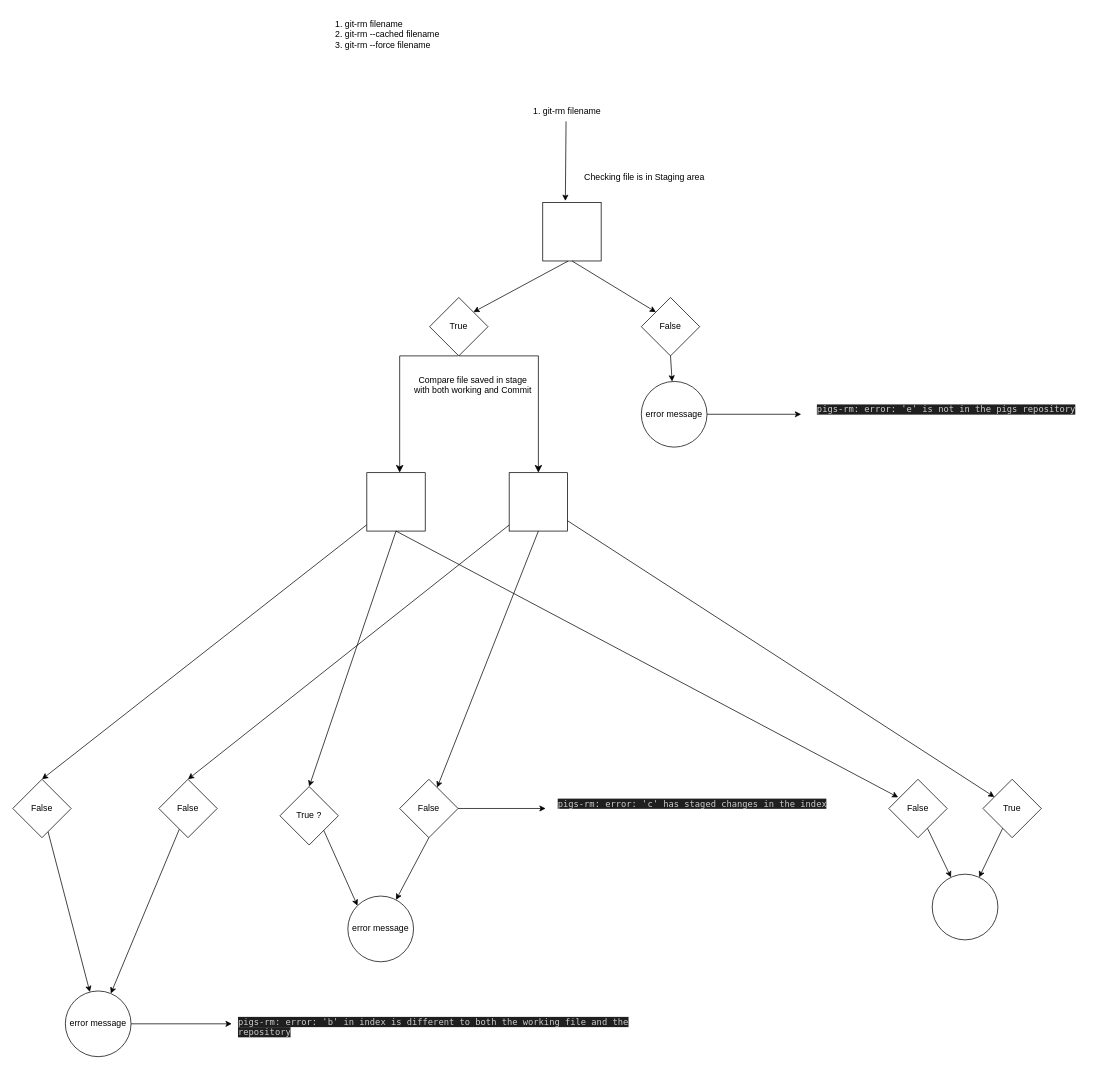
Some shapes in this 1113 by 1069 pixel diagram are drawn without their labels. The shapes that lost their labels are listed below. From the top down, each one's centre as x and y in pixels, then its label:
(571,231): Staging
(395,501): Working
(538,501): Commit
(964,906): rm file in staging
